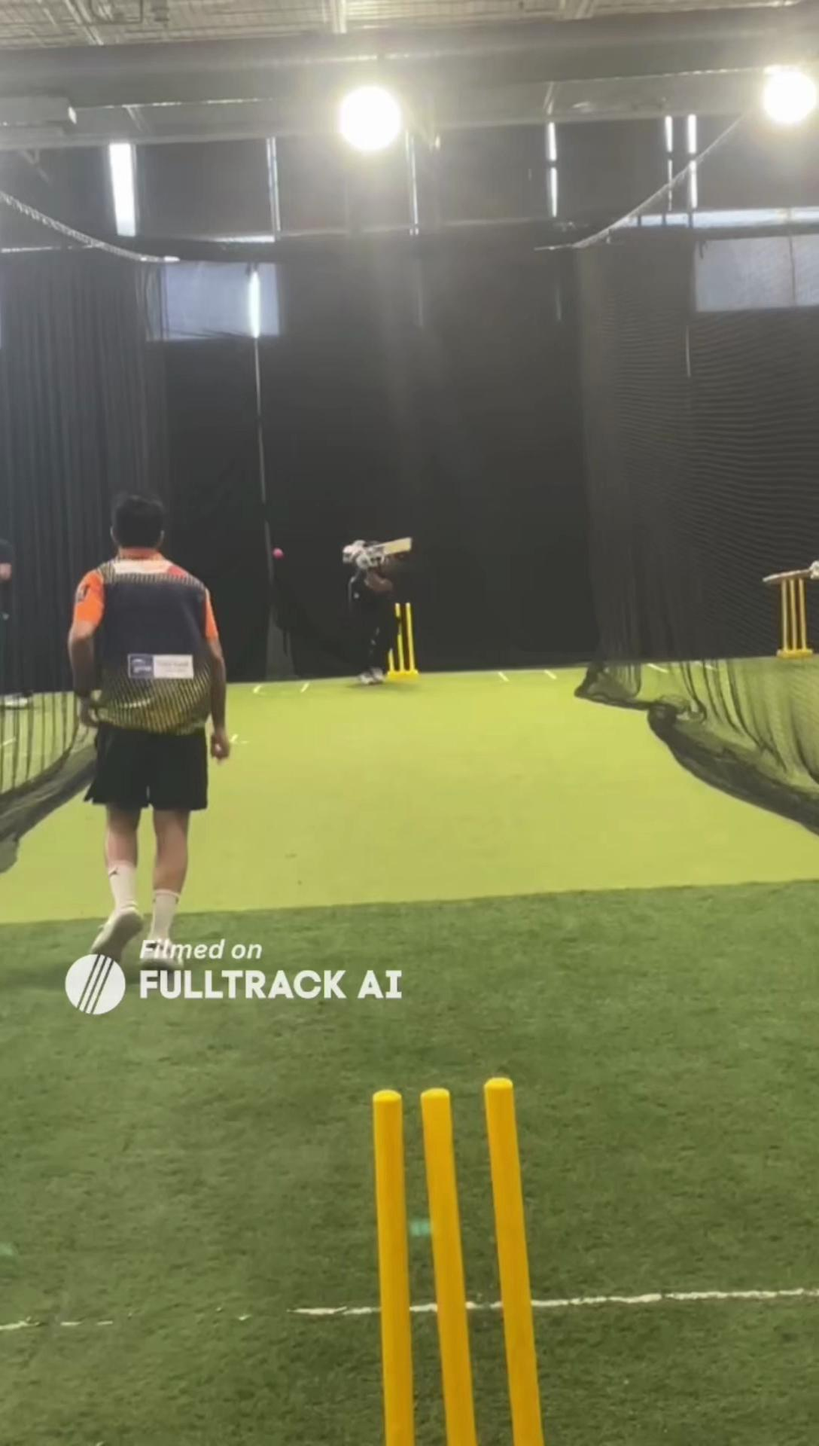ball: (271, 546, 288, 562)
